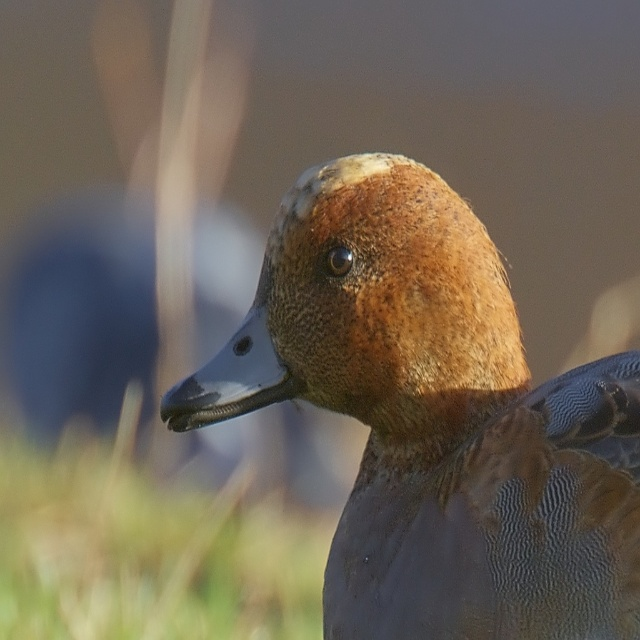Goose: (156, 150, 639, 639)
